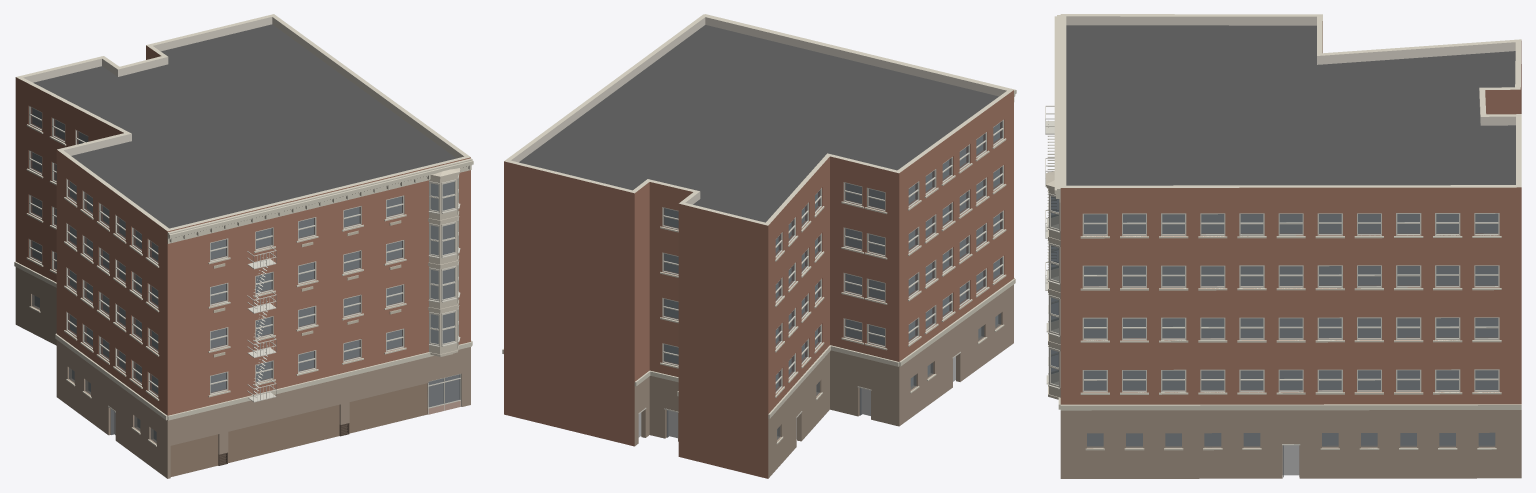
The model's file is exterior.glb.
3 views of the same model, side by side, from view 1: azimuth 30°, elevation 25°; view 2: azimuth 150°, elevation 25°; view 3: azimuth 270°, elevation 25° (orthographic). The views are drawn at different scales.
Visible parts, largest first — view 1: shell, roof, glazing, shadow-proxy, trim, storefront, frames, bay-glazing-hyb, bay-windows-hyb, fire-escape, hand-ornament; view 2: shell, roof, glazing, shadow-proxy, frames, trim; view 3: shell, roof, glazing, shadow-proxy, frames, trim, bay-glazing-hyb, bay-windows-hyb, fire-escape.
Part boxes in pixels (bbox=[...]): shell: bbox=[15, 14, 470, 478]; roof: bbox=[33, 24, 456, 228]; glazing: bbox=[30, 107, 460, 443]; shadow-proxy: bbox=[32, 108, 459, 440]; trim: bbox=[14, 124, 473, 446]; storefront: bbox=[108, 374, 461, 476]; frames: bbox=[29, 106, 404, 397]; bay-glazing-hyb: bbox=[428, 175, 460, 347]; bay-windows-hyb: bbox=[428, 167, 460, 356]; fire-escape: bbox=[247, 246, 276, 402]; hand-ornament: bbox=[213, 220, 401, 357]; shell: bbox=[504, 14, 1013, 478]; roof: bbox=[519, 25, 998, 222]; glazing: bbox=[663, 121, 1002, 439]; shadow-proxy: bbox=[638, 123, 999, 438]; frames: bbox=[662, 119, 1003, 394]; trim: bbox=[502, 14, 1016, 444]; shell: bbox=[1060, 14, 1521, 478]; roof: bbox=[1066, 25, 1515, 185]; glazing: bbox=[1084, 213, 1498, 447]; shadow-proxy: bbox=[1084, 214, 1497, 475]; frames: bbox=[1082, 213, 1499, 392]; trim: bbox=[1054, 15, 1521, 450]; bay-glazing-hyb: bbox=[1046, 188, 1060, 389]; bay-windows-hyb: bbox=[1046, 171, 1060, 399]; fire-escape: bbox=[1045, 105, 1058, 290].
Bounding box in the file's own units: 24.77 × 19.12 × 28.39.
